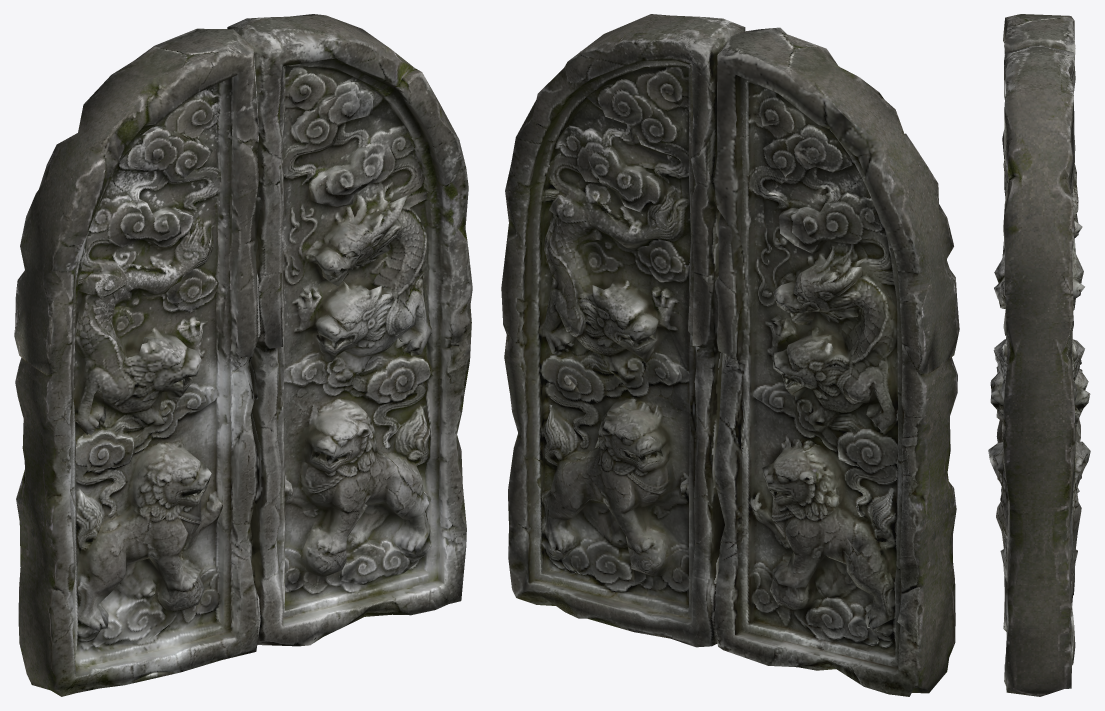
The model's file is SealedDoor.gltf.
The picture shows the model from 3 angles, left to right: view 1: azimuth 30°, elevation 25°; view 2: azimuth 150°, elevation 25°; view 3: azimuth 270°, elevation 25°; orthographic projection. The views are drawn at different scales.
Parts seen in each view (by area): view 1: lo; view 2: lo; view 3: lo.
Boxes of the visible parts, bbox=[...] form: lo: bbox=[14, 14, 472, 696]; lo: bbox=[501, 14, 959, 696]; lo: bbox=[988, 14, 1090, 696].
Size of the model in its own units: 5.77 by 7.97 by 1.31.
Materials: 1 (1 with a texture image).
